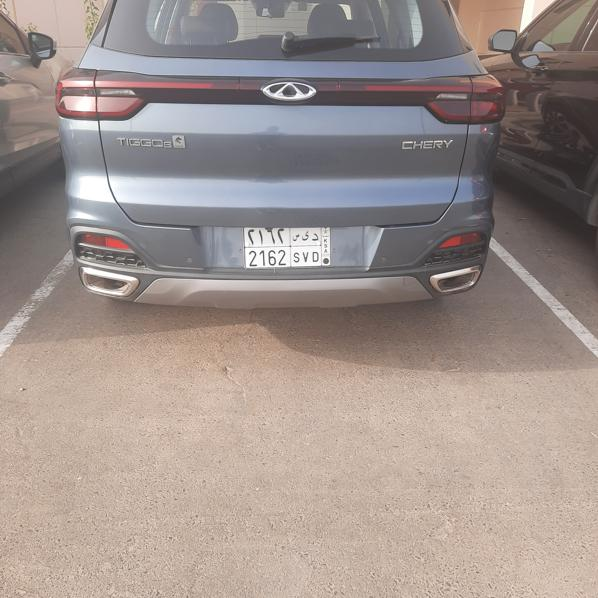numberplate: (244, 227, 332, 267)
